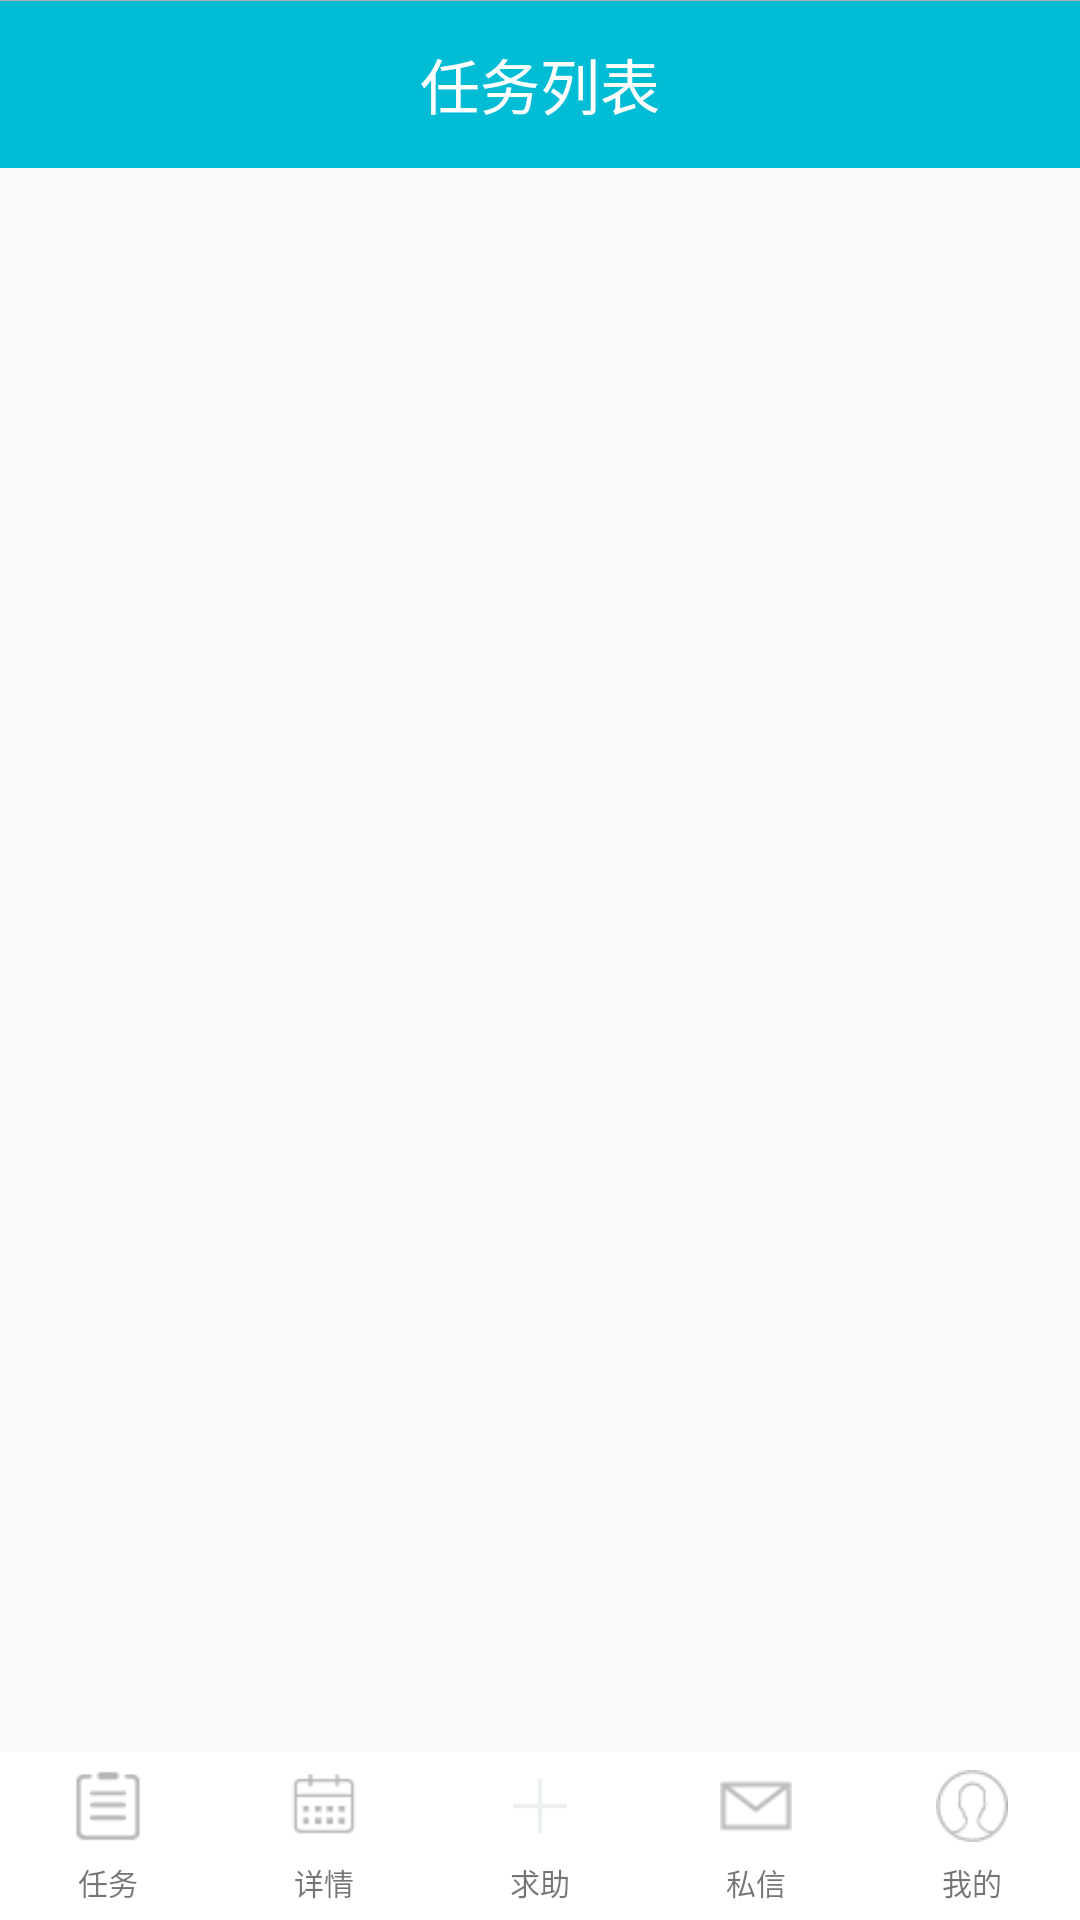

Icon bounding boxes for this 1080 x 1920 phone screenshot, format (x1, y1, x2, y2):
calender: (294, 1774, 354, 1833)
email: (720, 1782, 792, 1830)
order: (76, 1772, 140, 1840)
profile: (936, 1770, 1008, 1842)
